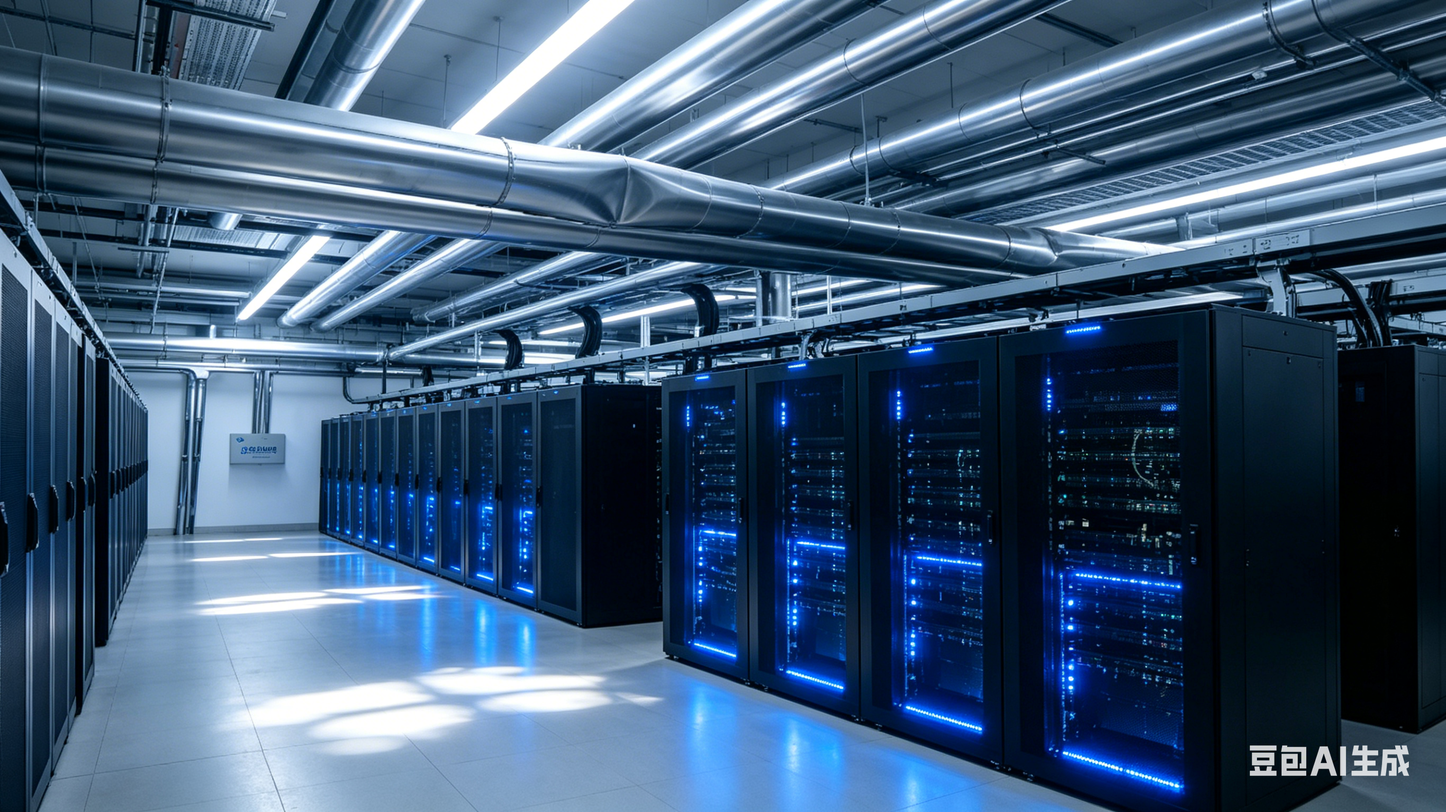Leakage: (589, 154, 675, 230)
